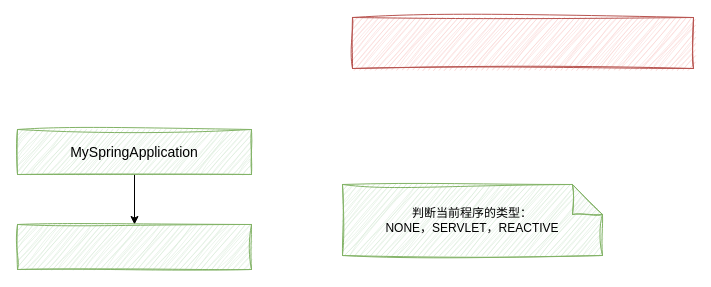
This 711x287 diagram has some shape labels left out. Here are the shapes that lost their labels. From the top down, the box of each, then its label:
(352, 16, 694, 68): Spring Boot 启动流程图
(16, 224, 252, 270): new SpringApplication() 初始化
